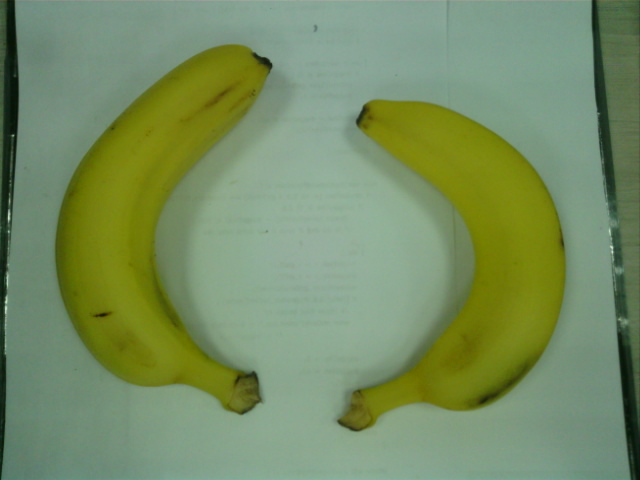normal_banana: (55, 43, 273, 415), (337, 99, 565, 425)
